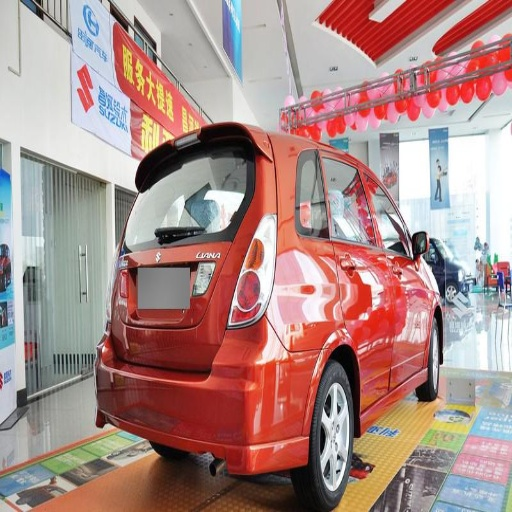back_bumper: (99, 316, 322, 475)
back_right_door: (300, 150, 392, 388)
trunk: (121, 242, 241, 369)
